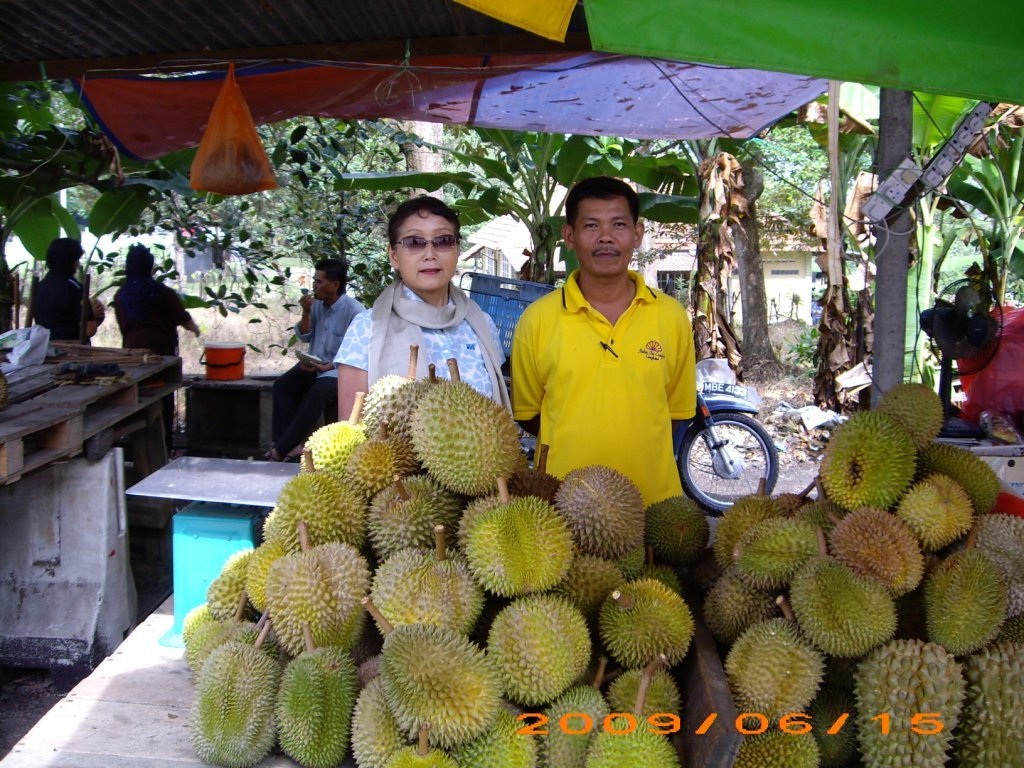Tree: (0, 82, 1023, 389)
